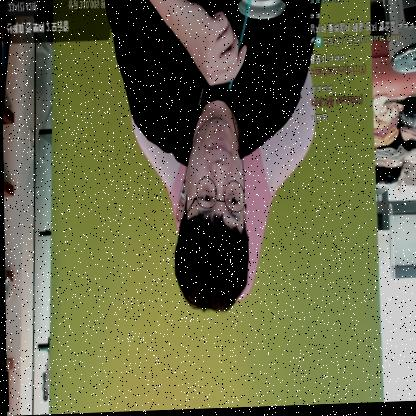streamer: (99, 0, 331, 317)
